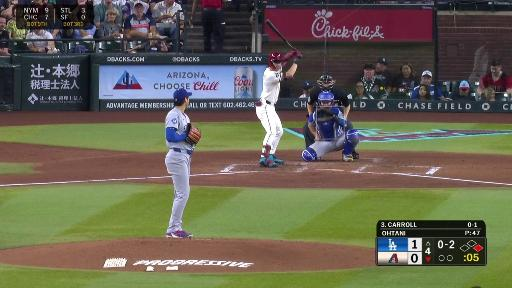pitcher: (164, 88, 203, 241)
